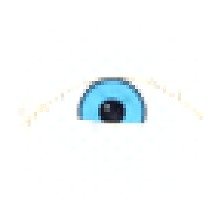pinguecula_lesion: (22, 88, 61, 119)
